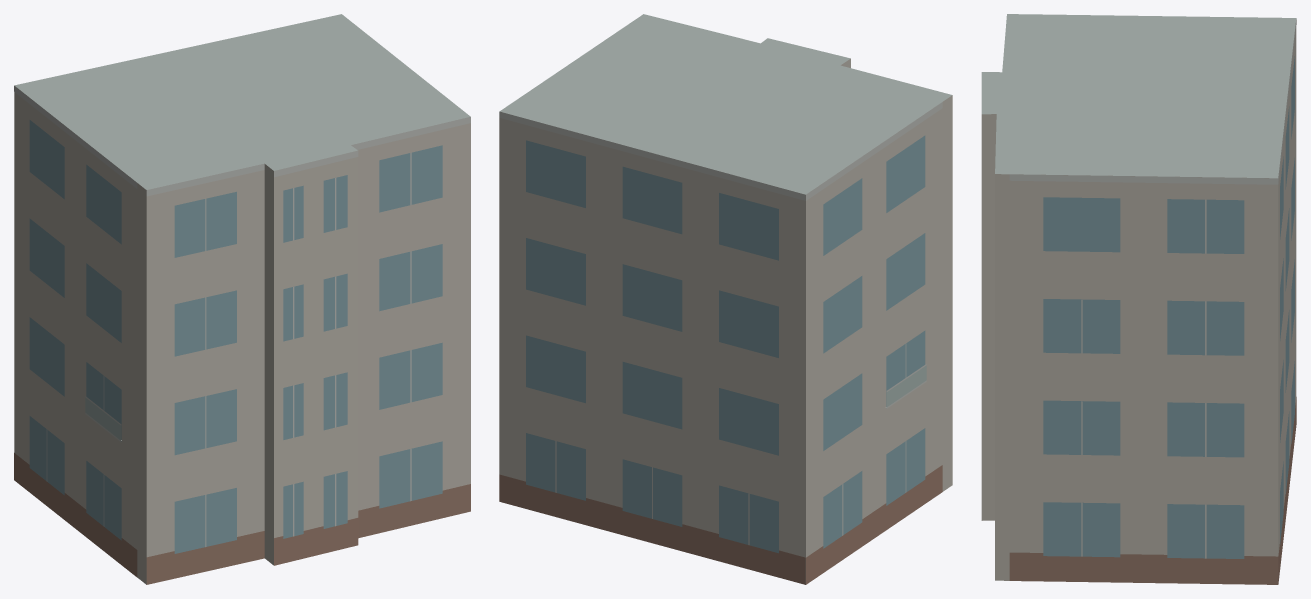
The model's file is survey-upis-32558830.glb.
3 renders of one model, left to right at view 1: azimuth 30°, elevation 25°; view 2: azimuth 150°, elevation 25°; view 3: azimuth 270°, elevation 25°, orthographic. The views are drawn at different scales.
Visible parts, largest first — view 1: survey-upis-32558830.tmp; view 2: survey-upis-32558830.tmp; view 3: survey-upis-32558830.tmp.
Part boxes in pixels (x1,y1,x2,y2): survey-upis-32558830.tmp: (14,14,470,584); survey-upis-32558830.tmp: (499,14,952,584); survey-upis-32558830.tmp: (981,14,1296,584).
Size of the model in its own units: 13.13 by 15.15 by 10.64.
